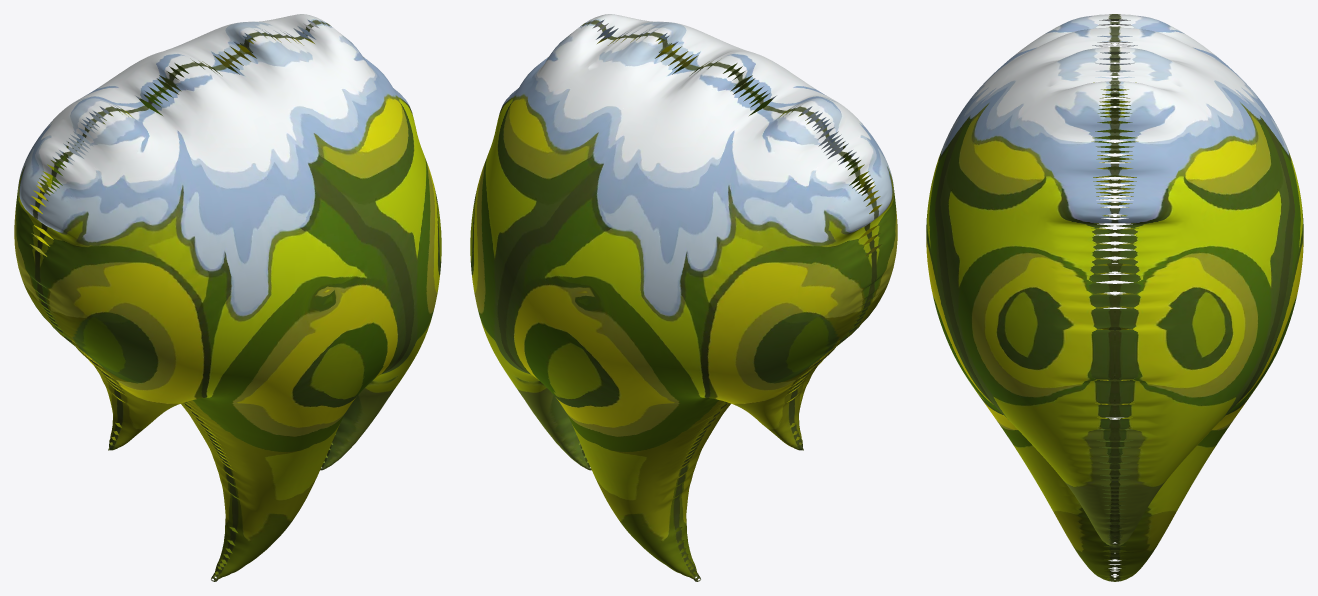
Rendered from lime_seedpods.glb.
3 renders of one model, left to right at view 1: azimuth 30°, elevation 25°; view 2: azimuth 150°, elevation 25°; view 3: azimuth 270°, elevation 25°, orthographic. The views are drawn at different scales.
Visible parts, largest first — view 1: lime_seedpods; view 2: lime_seedpods; view 3: lime_seedpods.
Part boxes in pixels (x1,y1,x2,y2): lime_seedpods: (14, 14, 441, 581); lime_seedpods: (470, 14, 897, 581); lime_seedpods: (926, 14, 1303, 581).
Bounding box in the file's own units: 0.9852 × 1.33 × 0.8231.
1 material, 1 textured.
